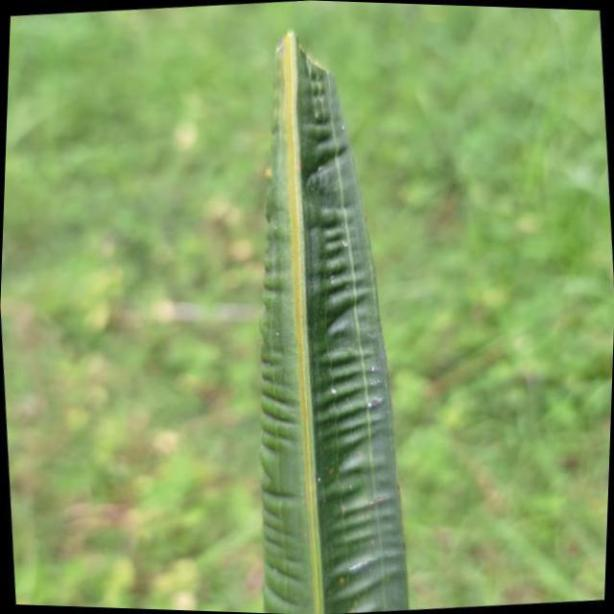Boron: (256, 24, 409, 614)
